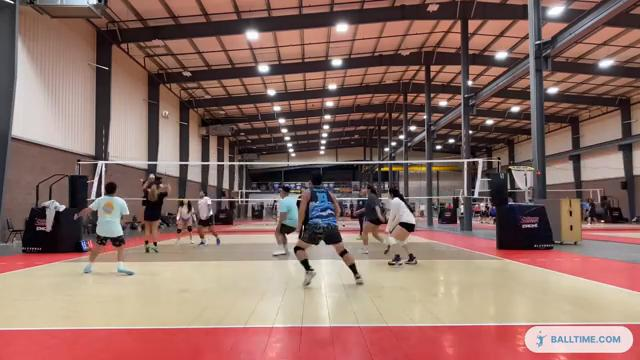attacco: (136, 173, 172, 255)
